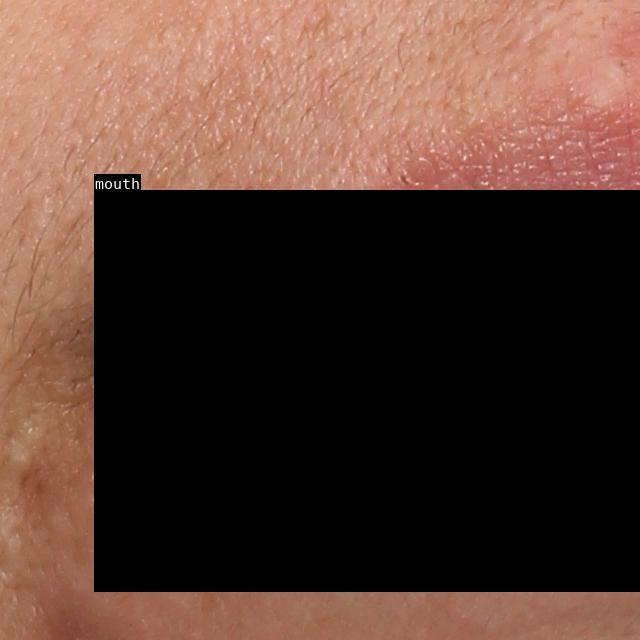hypertrophic_scar: (0, 420, 46, 474)
